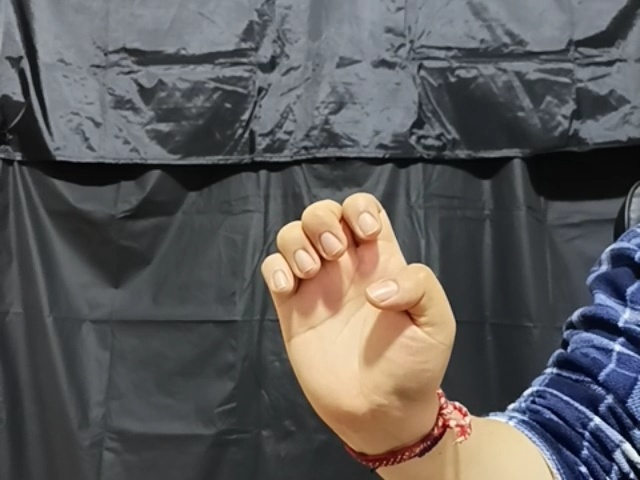E: (255, 188, 460, 449)
